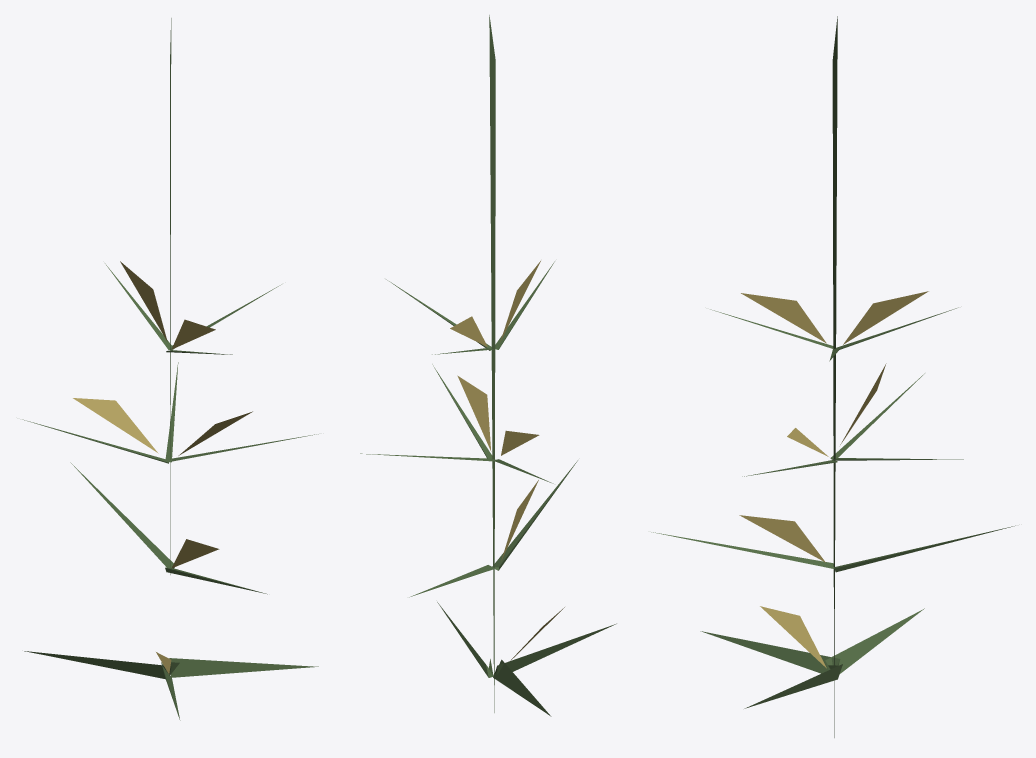
The model's file is Corn_2.lod3.glb.
The picture shows the model from 3 angles, left to right: view 1: azimuth 30°, elevation 25°; view 2: azimuth 150°, elevation 25°; view 3: azimuth 270°, elevation 25°; orthographic projection.
Visible parts, largest first — view 1: Corn_2; view 2: Corn_2; view 3: Corn_2.
Boxes of the visible parts, <box> form: Corn_2: <box>22,18,318,720</box>; Corn_2: <box>360,15,616,716</box>; Corn_2: <box>651,16,1015,737</box>.
Bounding box in the file's own units: 0.6328 × 1.98 × 0.9199.
